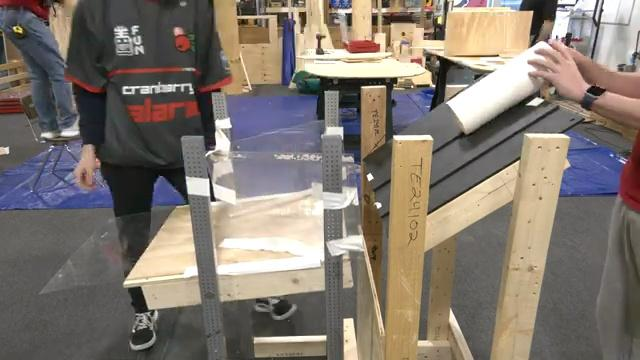CORAL: (444, 39, 554, 135)
